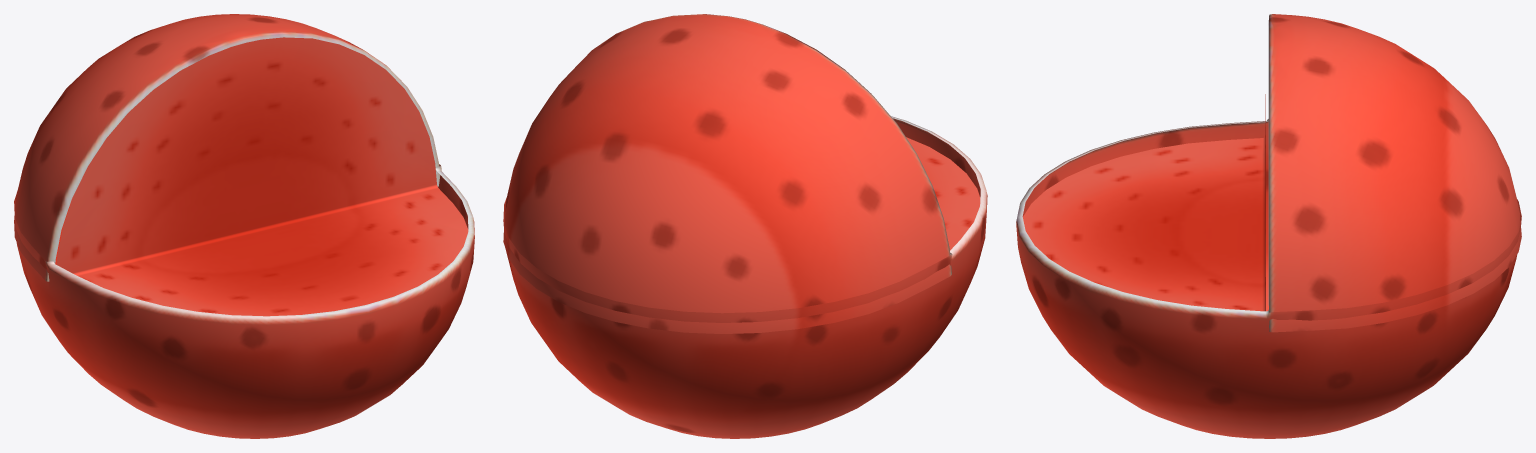
File: AnimalCell-Nucleus.fbx
The picture shows the model from 3 angles, left to right: view 1: azimuth 30°, elevation 25°; view 2: azimuth 150°, elevation 25°; view 3: azimuth 270°, elevation 25°; orthographic projection. The views are drawn at different scales.
Visible parts, largest first — view 1: polySurface366; view 2: polySurface366; view 3: polySurface366.
Part boxes in pixels (x1=…): polySurface366: x1=14, y1=14, x2=474, y2=438; polySurface366: x1=503, y1=14, x2=987, y2=438; polySurface366: x1=1016, y1=14, x2=1521, y2=438.
Size of the model in its own units: 5.36 by 4.87 by 5.86.
Materials: 1 (1 with a texture image).
